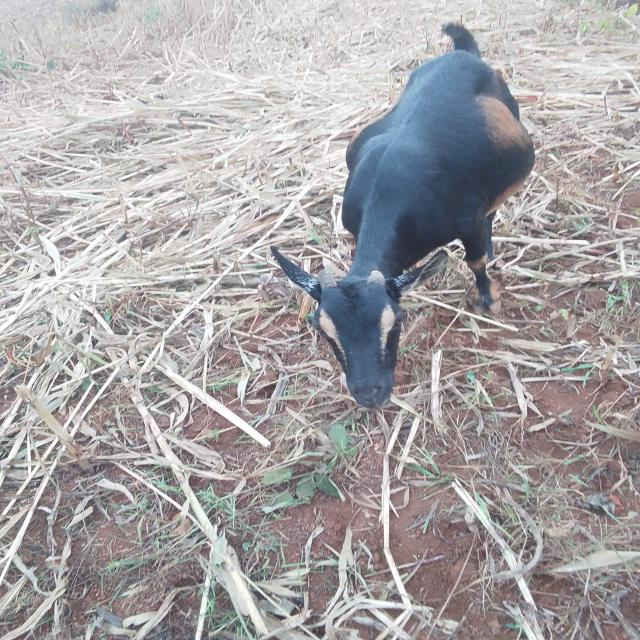goat: (223, 6, 576, 440)
